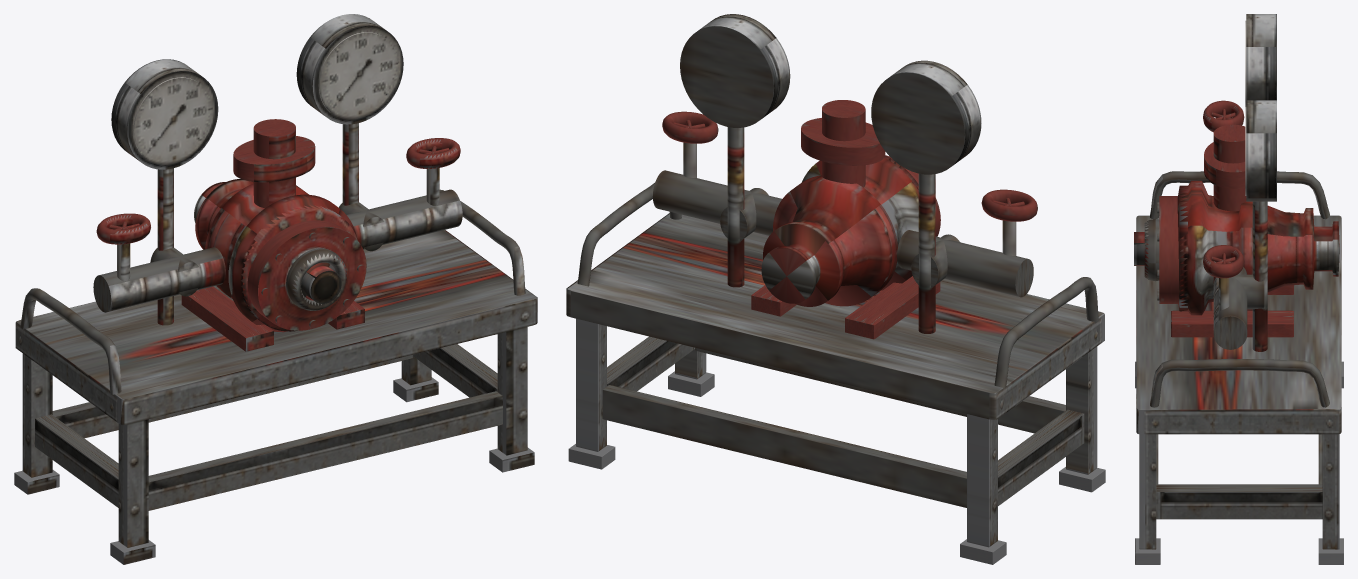
File: pump-test-bench.glb
3 renders of one model, left to right at view 1: azimuth 30°, elevation 25°; view 2: azimuth 150°, elevation 25°; view 3: azimuth 270°, elevation 25°, orthographic. The views are drawn at different scales.
Parts seen in each view (by area): view 1: tabletop, cross-rail (×2), leg (×4), gauge-face (×2), pump-casting, manifold (×2), pressure-gauge (×2), inlet-flange, end-rail (×2), bench-handle (×2), gauge-stem (×2), foot (×4) (+5 smaller); view 2: tabletop, pressure-gauge (×2), pump-casting, cross-rail (×2), leg (×4), manifold (×2), end-rail (×2), gauge-stem (×2), bench-handle (×2), mount-foot (×2), foot (×4), valve-wheel (×2) (+3 smaller); view 3: tabletop, pump-casting, end-rail, pressure-gauge (×2), bench-handle (×2), leg (×2), inlet-flange, gauge-stem, mount-foot, manifold, top-neck, valve-wheel (×2) (+5 smaller).
Part boxes in pixels (<box>): tabletop: <box>15,230,537,424</box>; cross-rail (×2): <box>52,354,502,510</box>; leg (×4): <box>22,327,527,547</box>; gauge-face (×2): <box>133,32,398,164</box>; pump-casting: <box>194,179,357,332</box>; manifold (×2): <box>93,189,462,312</box>; pressure-gauge (×2): <box>111,14,403,169</box>; inlet-flange: <box>247,220,366,330</box>; end-rail (×2): <box>35,344,497,507</box>; bench-handle (×2): <box>20,189,525,394</box>; gauge-stem (×2): <box>157,123,358,325</box>; foot (×4): <box>14,377,534,564</box>; tabletop: <box>566,213,1104,419</box>; pressure-gauge (×2): <box>680,14,981,174</box>; pump-casting: <box>761,155,918,306</box>; cross-rail (×2): <box>602,347,1065,507</box>; leg (×4): <box>576,318,1097,547</box>; manifold (×2): <box>652,170,1033,297</box>; end-rail (×2): <box>607,336,1084,505</box>; gauge-stem (×2): <box>727,127,935,333</box>; bench-handle (×2): <box>577,183,1098,388</box>; mount-foot (×2): <box>751,276,940,339</box>; foot (×4): <box>568,371,1105,564</box>; valve-wheel (×2): <box>662,111,1037,221</box>; tabletop: <box>1136,215,1341,434</box>; pump-casting: <box>1134,180,1339,315</box>; end-rail: <box>1156,484,1322,519</box>; pressure-gauge (×2): <box>1246,14,1276,201</box>; bench-handle (×2): <box>1150,171,1329,407</box>; leg (×2): <box>1139,434,1339,549</box>; inlet-flange: <box>1159,196,1178,303</box>; gauge-stem: <box>1252,201,1267,351</box>; mount-foot: <box>1171,310,1293,337</box>; manifold: <box>1213,267,1247,349</box>; top-neck: <box>1213,124,1246,211</box>; valve-wheel (×2): <box>1203,100,1244,278</box>.
Size of the model in its own units: 1.8 by 1.74 by 0.8165.
6 materials, 6 textured.
